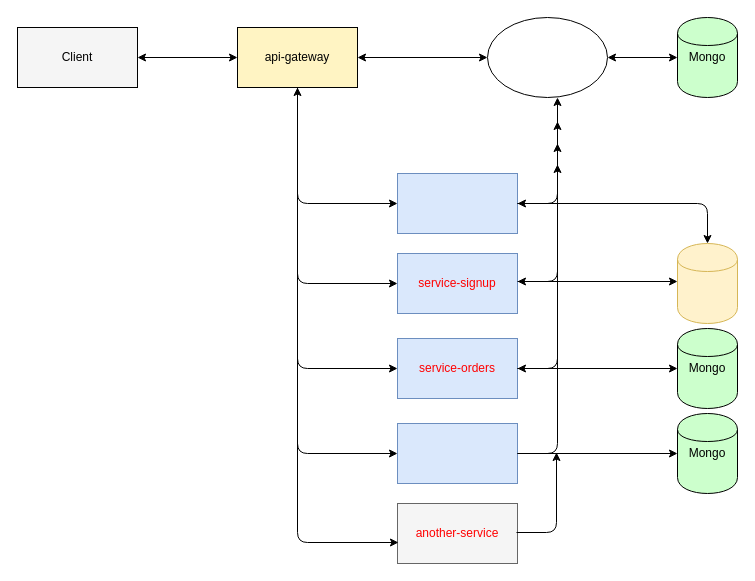
This 755x581 diagram has some shape labels left out. The centre of each missing label's shape, as x and y in pixels:
MySql: (x=707, y=283)
Service Registry: (x=547, y=57)
service-log: (x=457, y=453)
service-login: (x=457, y=203)
